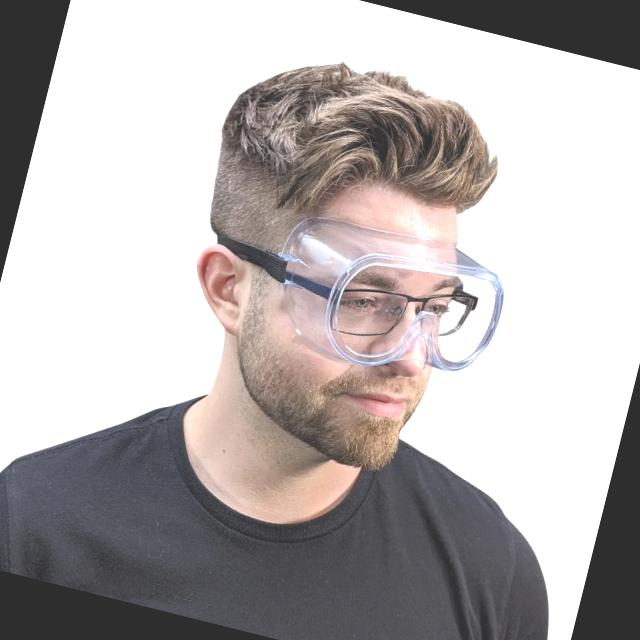goggles: (194, 186, 520, 397)
no-helmet: (178, 12, 536, 266)
no-vest: (0, 369, 586, 640)
